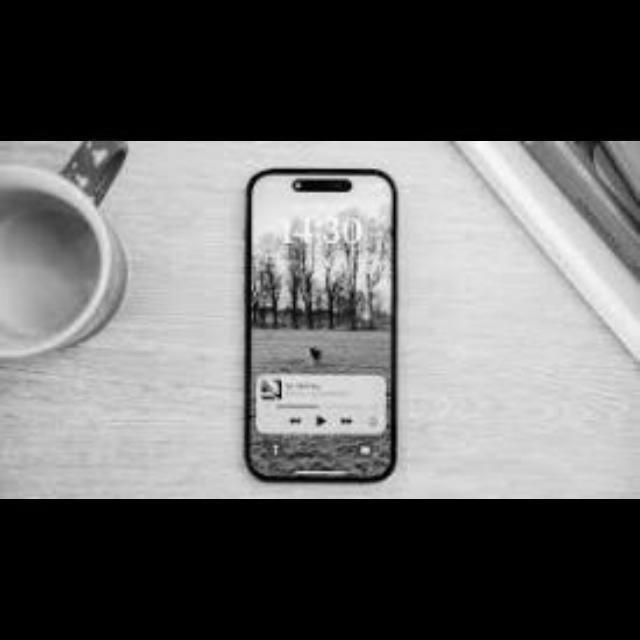fake: (241, 164, 398, 478)
